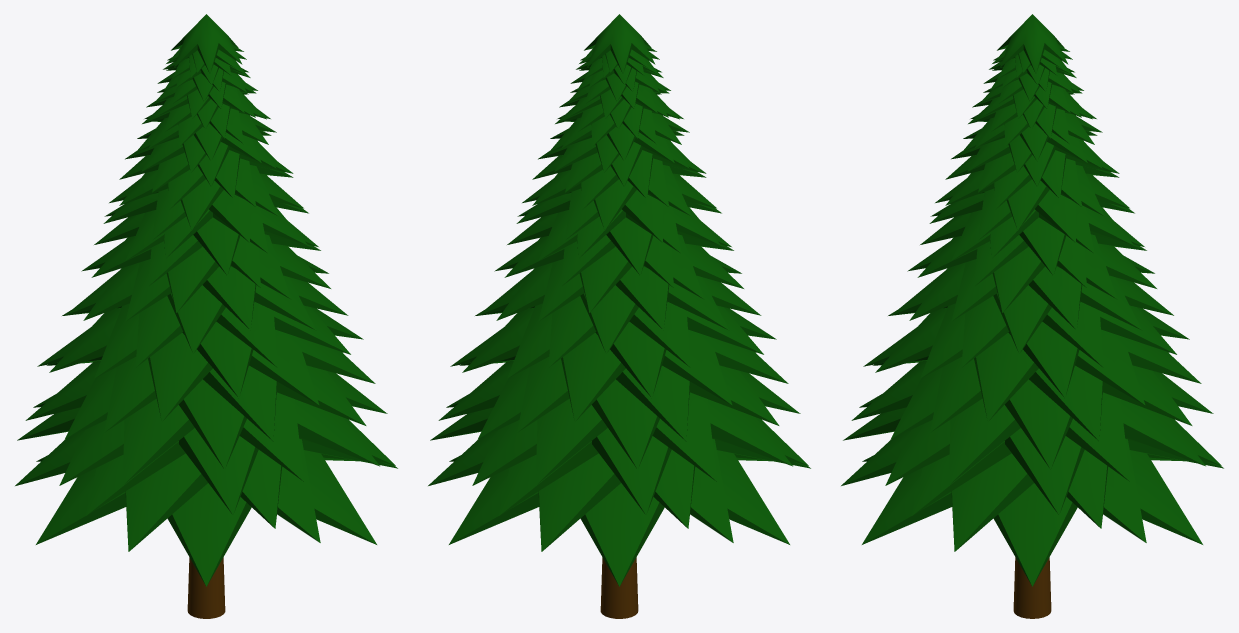
The model's file is Tree2.fbx.
The picture shows the model from 3 angles, left to right: view 1: azimuth 30°, elevation 25°; view 2: azimuth 150°, elevation 25°; view 3: azimuth 270°, elevation 25°; orthographic projection.
Parts seen in each view (by area): view 1: pCylinder37; view 2: pCylinder37; view 3: pCylinder37.
Part boxes in pixels (<box>): pCylinder37: <box>15,14,397,618</box>; pCylinder37: <box>428,14,810,618</box>; pCylinder37: <box>841,14,1223,618</box>.
Bounding box in the file's own units: 20.84 × 34.74 × 20.27.
